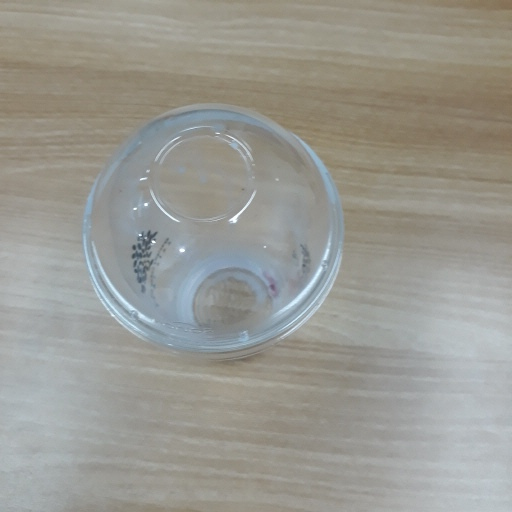Plastic_2: (76, 101, 347, 366)
